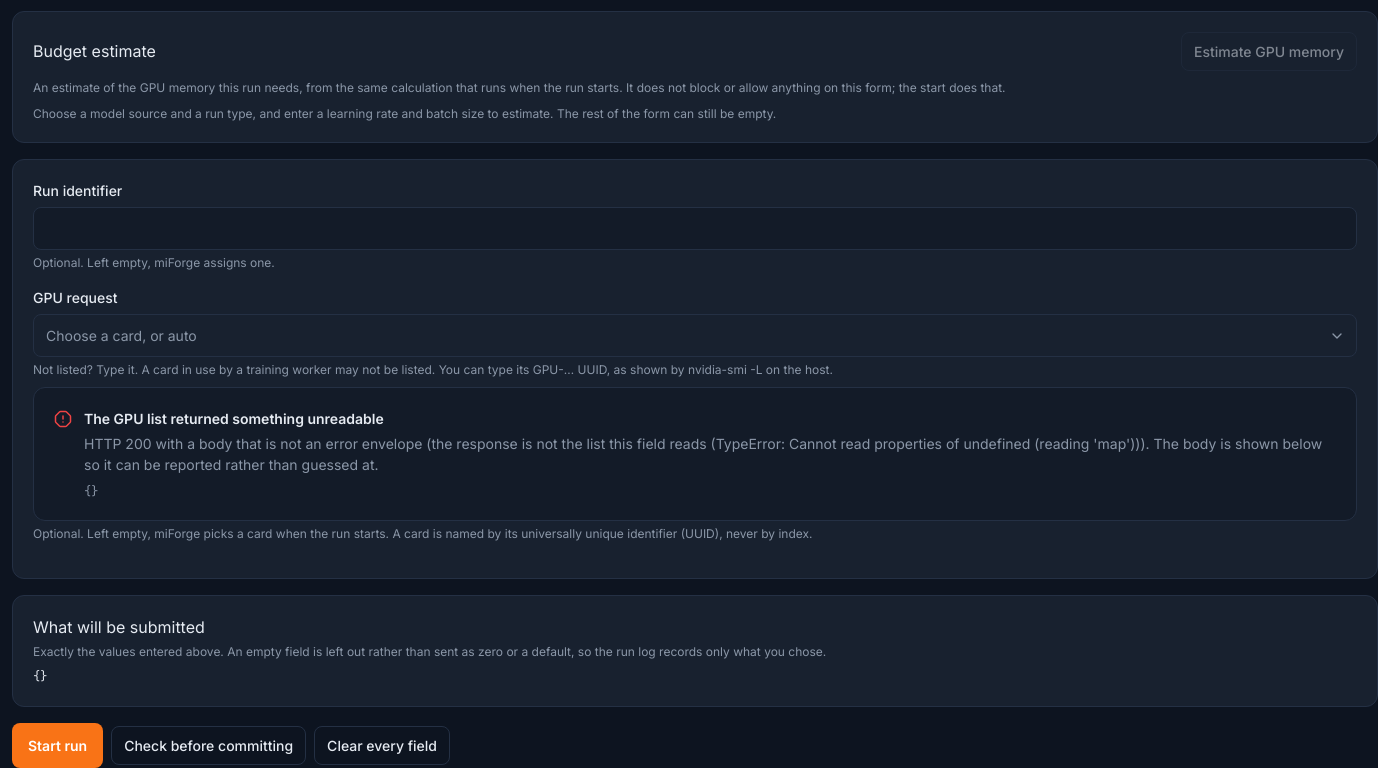
it: [NewRunForm] › should clear a green check when a submit is then refused
(page scrolled)
Click the button with test id "check-definition".
click(209, 745)  # box [111,726,306,765]
(page scrolled)
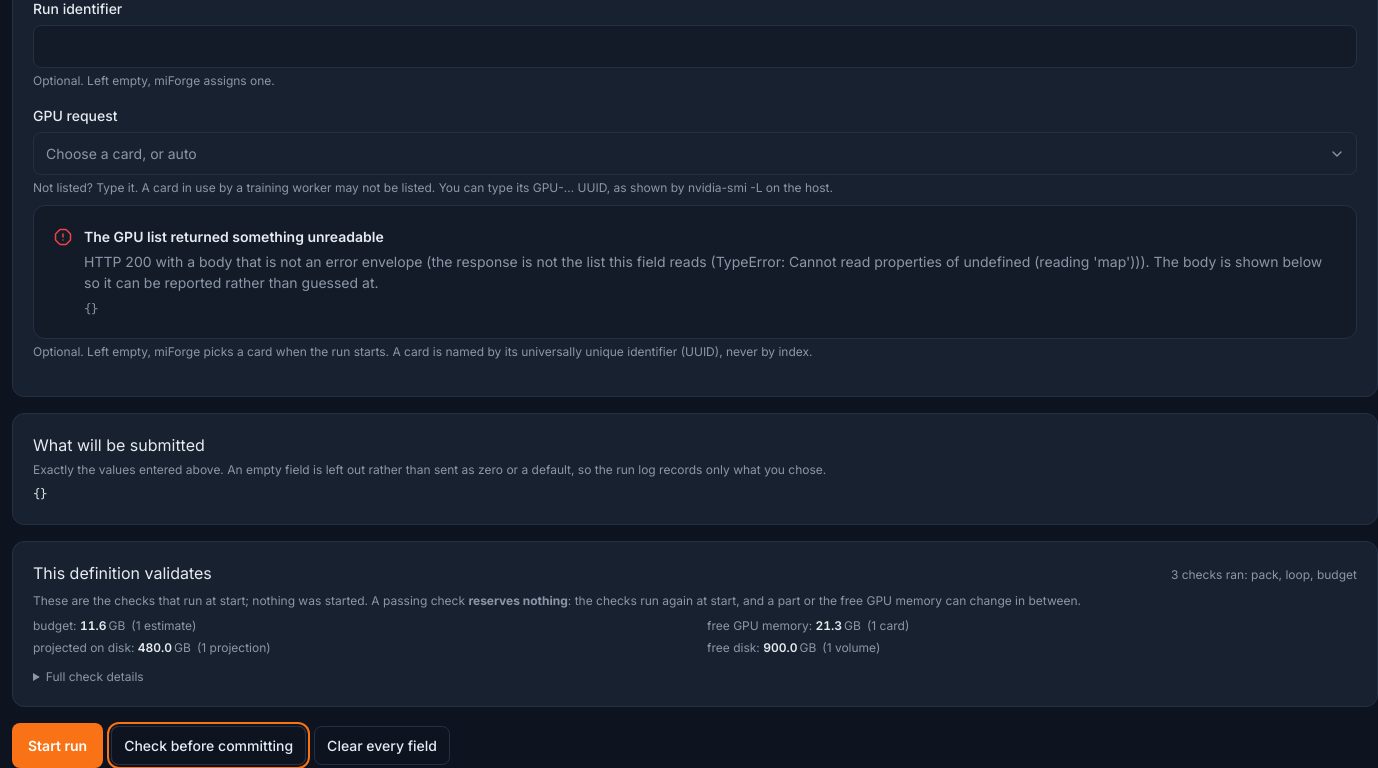
Result: the element with test id "resolved-summary" is shown at [12,541,1377,707]
Click the button with test id "start-run".
click(58, 745)  # box [12,723,103,767]
(page scrolled)
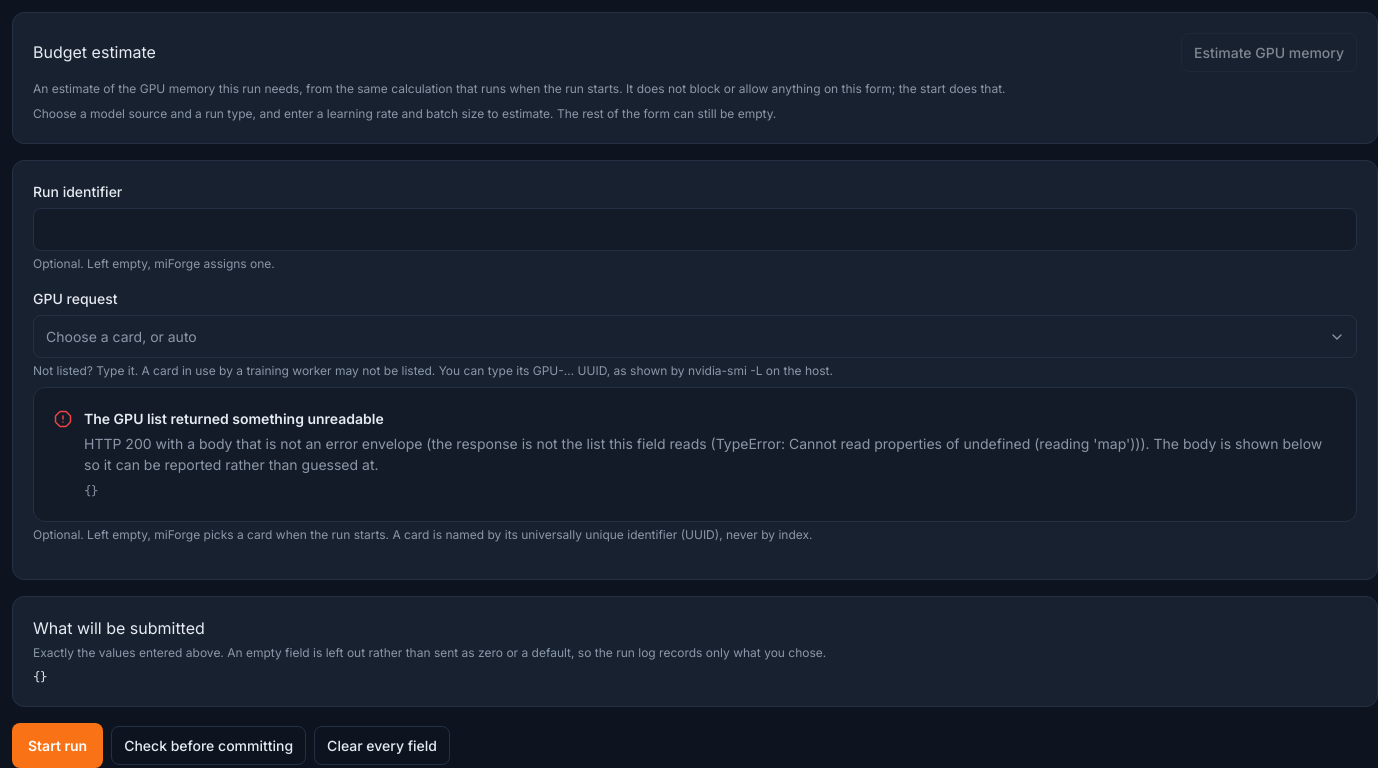
Result: the element with test id "resolved-summary" is gone
